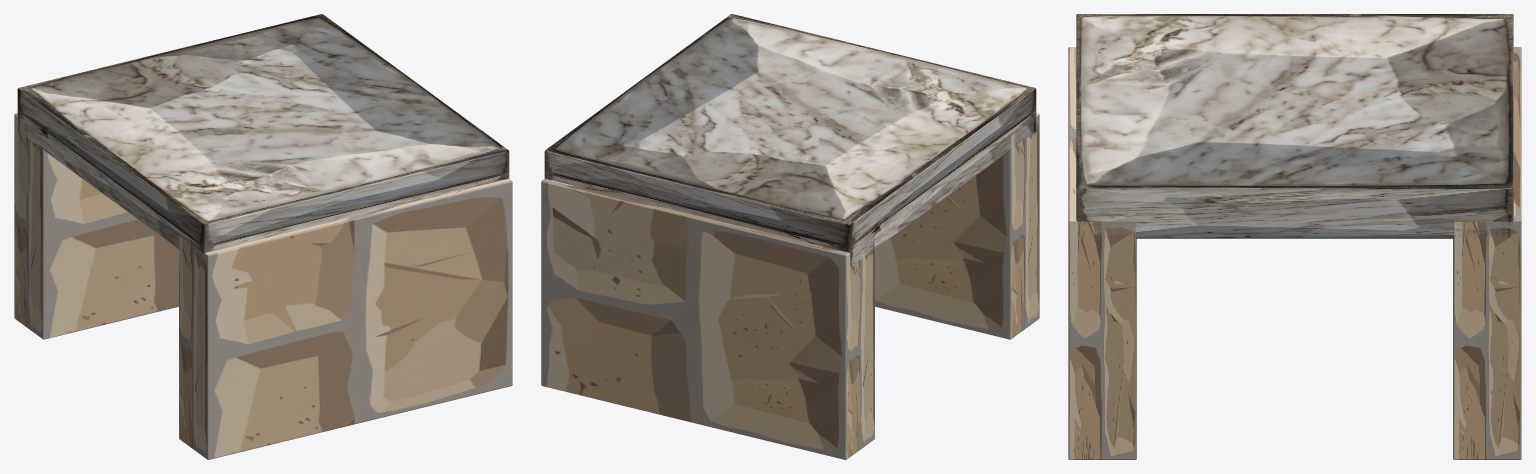
The model's file is bridge_arch_support_LOD2.glb.
3 renders of one model, left to right at view 1: azimuth 30°, elevation 25°; view 2: azimuth 150°, elevation 25°; view 3: azimuth 270°, elevation 25°, orthographic. The views are drawn at different scales.
Parts seen in each view (by area): view 1: LOD2_Saddle, LOD2_Abutment, LOD2_Abutment.001; view 2: LOD2_Saddle, LOD2_Abutment.001, LOD2_Abutment; view 3: LOD2_Saddle, LOD2_Abutment, LOD2_Abutment.001.
Boxes of the visible parts, x1=… form: LOD2_Saddle: x1=17, y1=14, x2=509, y2=263; LOD2_Abutment: x1=179, y1=178, x2=512, y2=459; LOD2_Abutment.001: x1=14, y1=113, x2=178, y2=339; LOD2_Saddle: x1=544, y1=14, x2=1036, y2=266; LOD2_Abutment.001: x1=541, y1=178, x2=874, y2=459; LOD2_Abutment: x1=875, y1=113, x2=1039, y2=339; LOD2_Saddle: x1=1076, y1=14, x2=1513, y2=238; LOD2_Abutment: x1=1068, y1=47, x2=1136, y2=459; LOD2_Abutment.001: x1=1453, y1=47, x2=1521, y2=459.
Size of the model in its own units: 4.2 by 3.07 by 4.62.
Materials: 2 (2 with a texture image).
